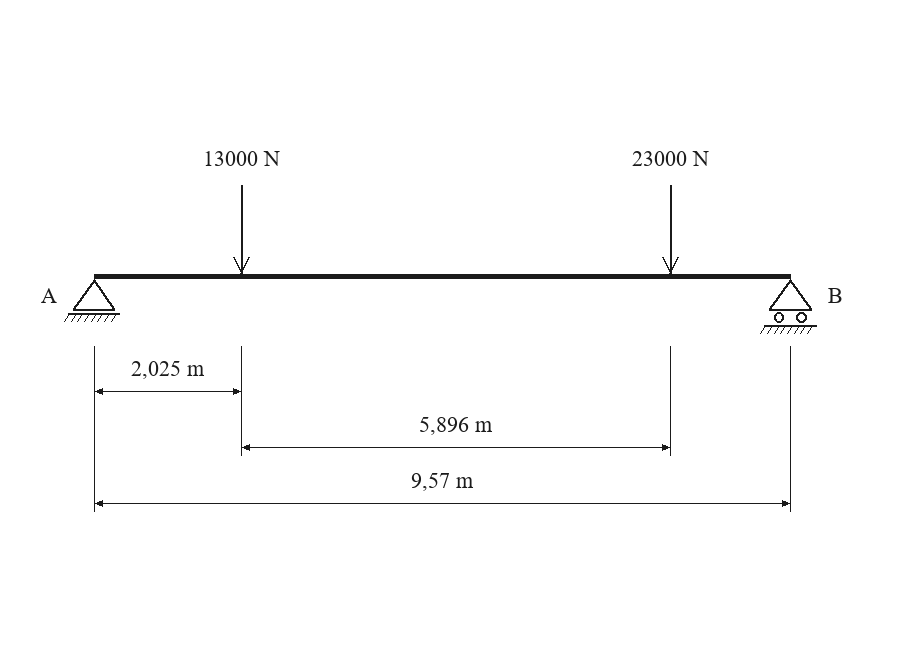pin_support: (64, 279, 120, 322)
point_load: (233, 185, 250, 274), (662, 185, 679, 274)
roller_support: (760, 279, 817, 334)
